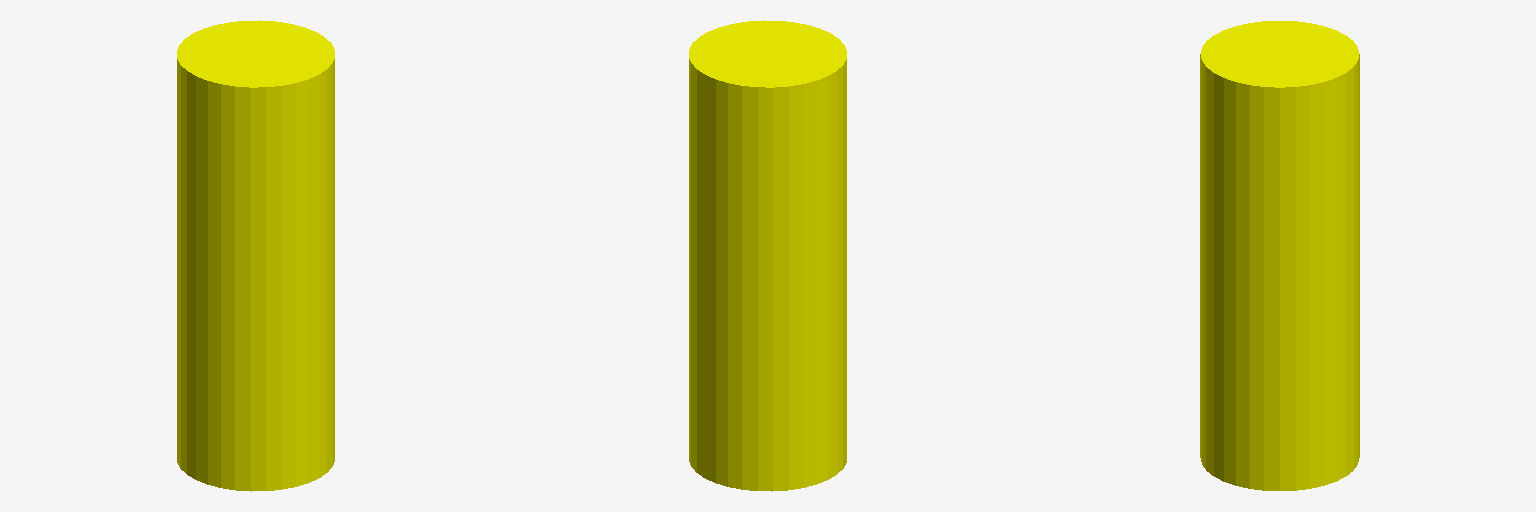
robot.urdf — rod.urdf:
<?xml version="0.0" ?>
<robot name="rod.urdf">

<link name="baseLink">
	<visual>
    <origin xyz="0 0 0" rpy="0 0 0"/>
    <geometry>
      <cylinder radius="0.0125" length="0.07"/>
    </geometry>
    <material name="yellow">
        <color rgba="1 1 0 1"/>
      </material>
  </visual>
  <collision>
    <origin xyz="0.0 0 0" rpy="0 0 0"/>
    <geometry>
      <!-- tolerance values based on hole being 4cm diameter -->
      <!-- tolerance: 1.5cm -->
<!--      <cylinder radius="0.0125" length="0.07"/>-->
      <!-- tolerance:: .25cm -->
      <cylinder radius="0.01875" length="0.07"/>
      <!-- tolerance: .5cm -->
      <!--<cylinder radius="0.0175" length="0.07"/>-->
    </geometry>
  </collision>
  <inertial>
    <mass value="0.1"/>
    <origin rpy="0 0 0" xyz="0.0 0.0 0.0"/>
    <inertia ixx="0.000526462289415" ixy="0.0" ixz="0.0" iyy="0.000526462289415" iyz="0.0" izz="0.000568125"/>
    <!-- <inertia ixx="1" ixy="0.0" ixz="0.0" iyy="1" iyz="0.0" izz="1"/> -->
  </inertial>
</link>

</robot>

--- Render facts (derived) ---
3 views of the same robot in one strip: view 1: azimuth 30°, elevation 25°; view 2: azimuth 150°, elevation 25°; view 3: azimuth 270°, elevation 25° (orthographic).
Robot: rod.urdf — 1 links, 0 joints (none); root link baseLink; default pose: all joints at 0.
Visible links, largest first — view 1: baseLink; view 2: baseLink; view 3: baseLink.
Link boxes in pixels (bbox=[...]): baseLink: bbox=[177, 20, 334, 491]; baseLink: bbox=[689, 20, 846, 491]; baseLink: bbox=[1200, 21, 1359, 490].
Bounding box of the posed robot: 0.025 × 0.025 × 0.07 m (x, y, z).
Geometry: primitives only (box / cylinder / sphere), no mesh files.